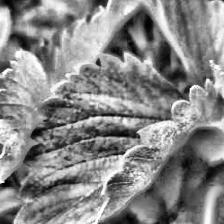Powdery Mildew Leaf: (11, 50, 224, 224)
